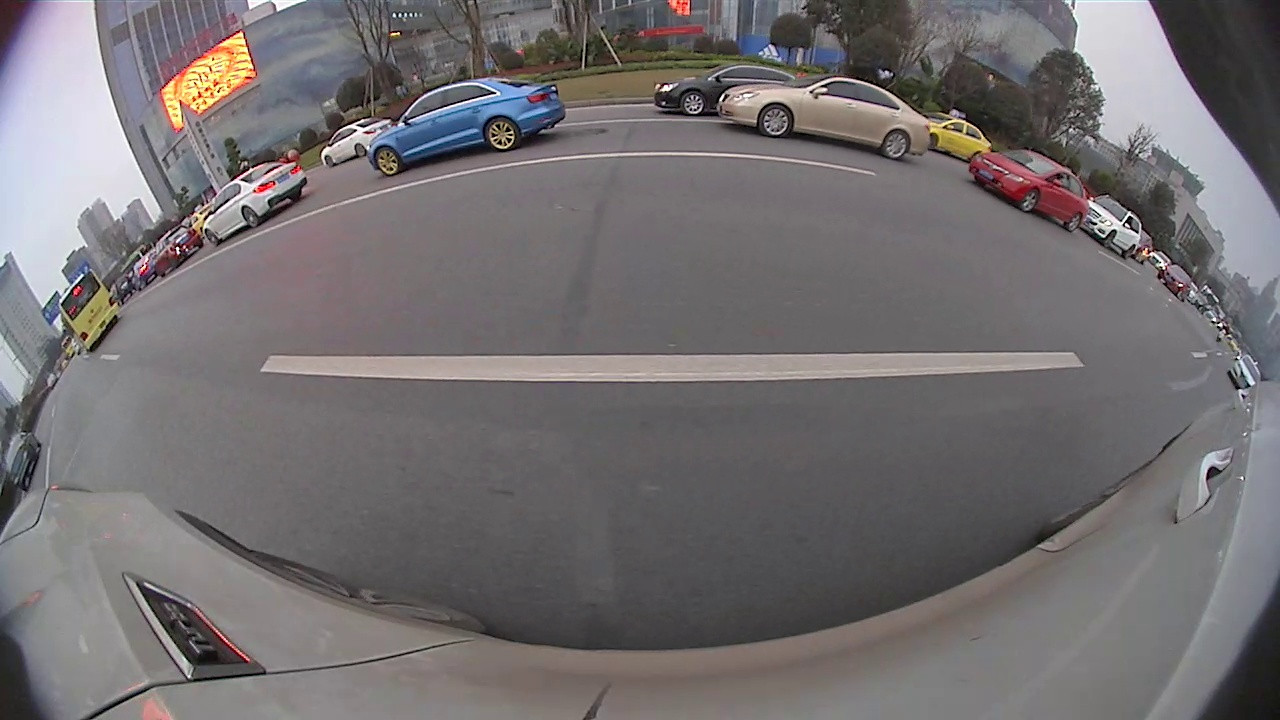bus: (55, 267, 119, 354)
car: (717, 74, 934, 167), (368, 78, 567, 178), (968, 148, 1085, 236), (203, 158, 306, 247), (649, 61, 803, 117), (919, 108, 996, 163), (1080, 192, 1139, 261), (317, 117, 391, 169)
front: (756, 103, 794, 140), (373, 142, 403, 179), (1014, 187, 1041, 216), (680, 89, 707, 115), (1099, 228, 1118, 247), (202, 227, 220, 247)
rear: (483, 113, 521, 153), (876, 129, 913, 162), (237, 202, 265, 232), (1061, 213, 1083, 235), (1116, 243, 1138, 261), (286, 188, 305, 207)
